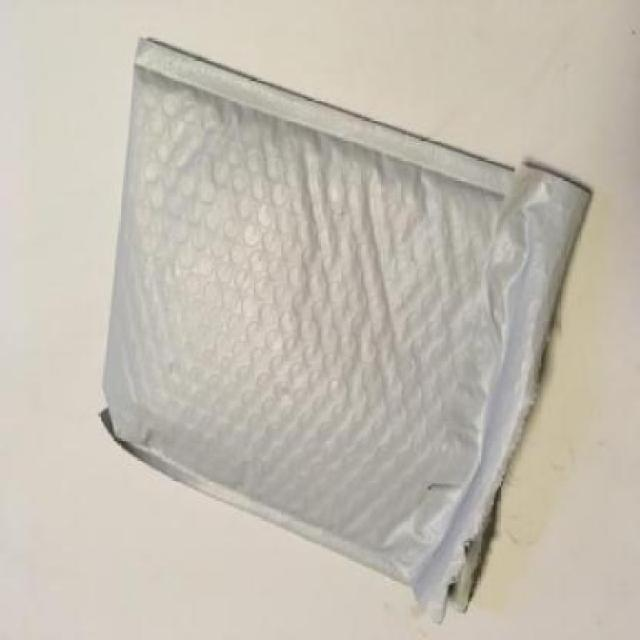nhua: (105, 39, 590, 616)
